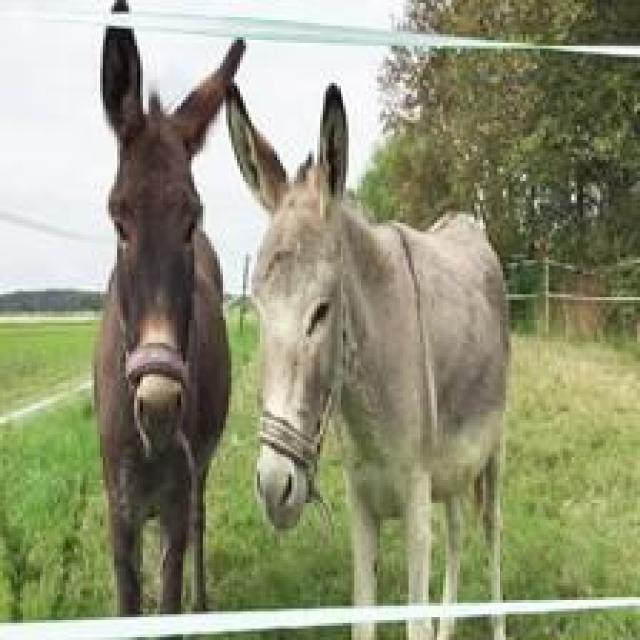Donkey: (217, 69, 512, 637), (91, 0, 246, 637)
